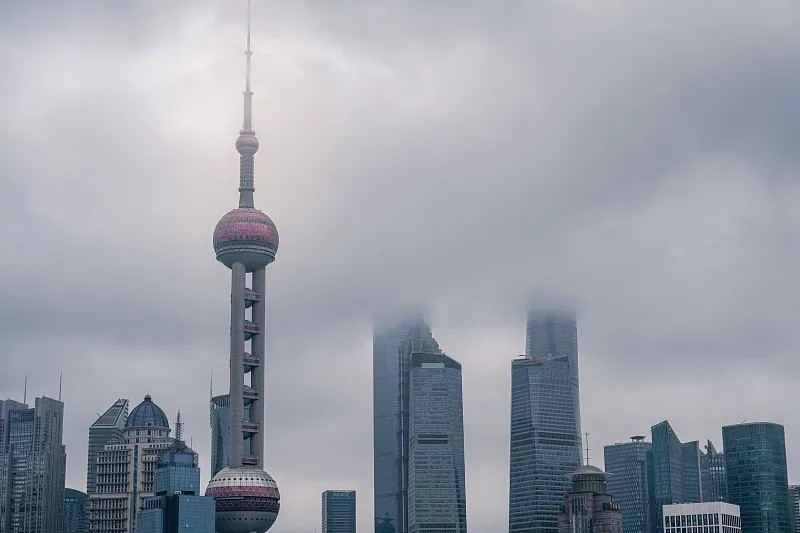Oriental: (205, 2, 281, 533)
